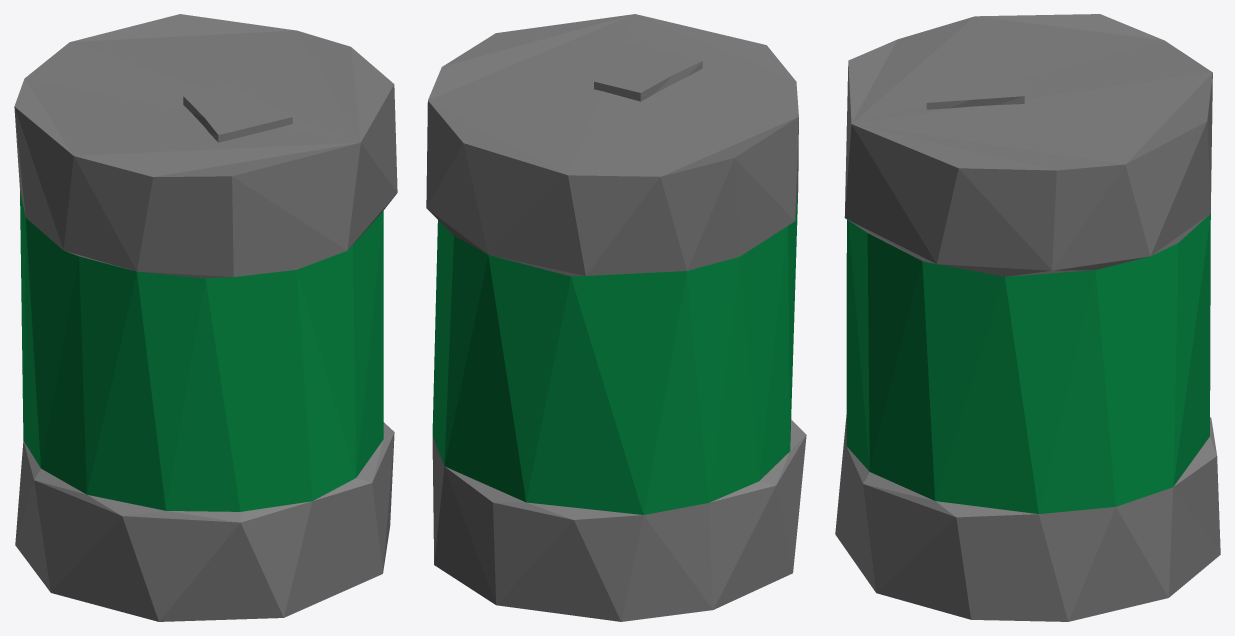
Rendered from Canned food_Green.fbx.
3 views of the same model, side by side, from view 1: azimuth 30°, elevation 25°; view 2: azimuth 150°, elevation 25°; view 3: azimuth 270°, elevation 25° (orthographic).
Visible parts, largest first — view 1: Shovel_Green; view 2: Shovel_Green; view 3: Shovel_Green.
Part boxes in pixels (box(x1,y1,x2,y2)): Shovel_Green: box(14, 14, 397, 621); Shovel_Green: box(426, 14, 806, 621); Shovel_Green: box(835, 14, 1220, 621).
Bounding box in the file's own units: 0.0943 × 0.125 × 0.0953.
